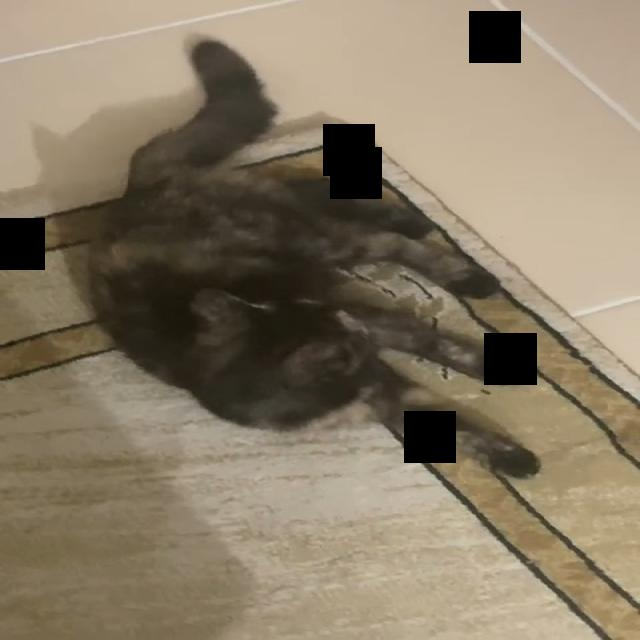authorized: (84, 32, 543, 480)
